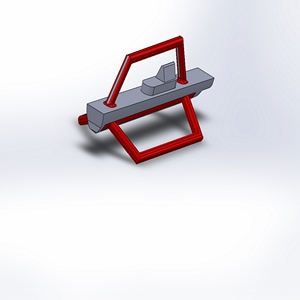submarine: (70, 30, 238, 182)
